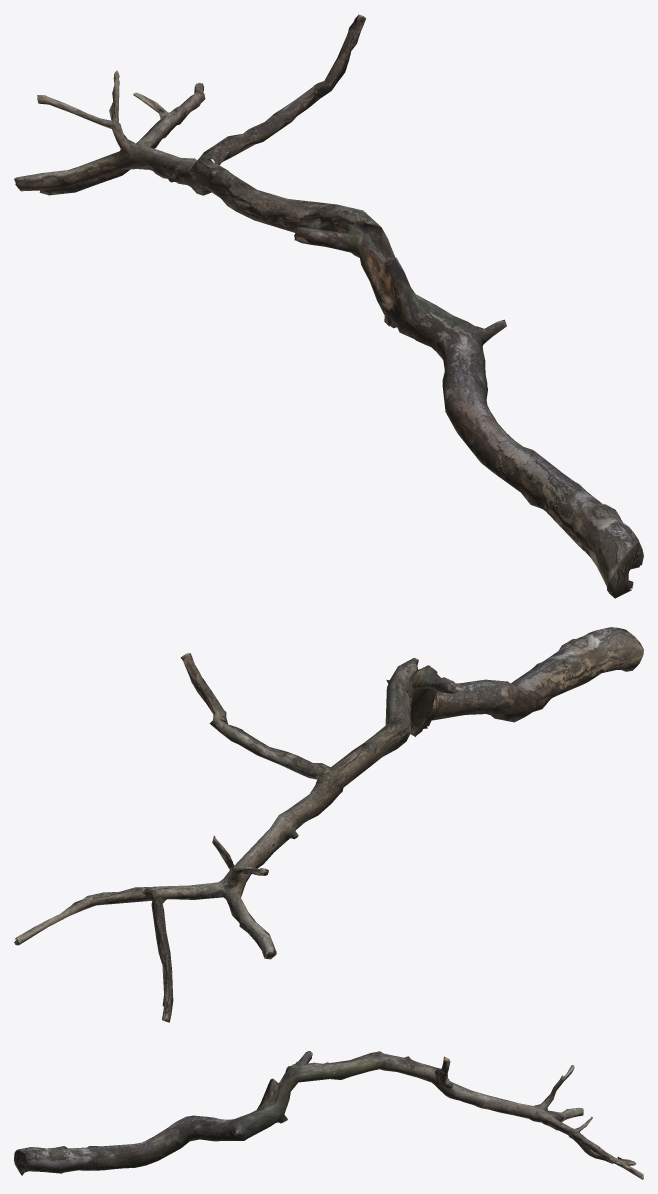
The model's file is dry_branches_medium_01_c.glb.
3 views of the same model, one above another, from view 1: azimuth 30°, elevation 25°; view 2: azimuth 150°, elevation 25°; view 3: azimuth 270°, elevation 25° (orthographic). The views are drawn at different scales.
Parts seen in each view (by area): view 1: dry_branches_medium_01_a; view 2: dry_branches_medium_01_a; view 3: dry_branches_medium_01_a.
Boxes of the visible parts, x1,y1,x2,y2 form: dry_branches_medium_01_a: (14,14,643,598); dry_branches_medium_01_a: (14,627,643,1022); dry_branches_medium_01_a: (14,1051,643,1179).
Bounding box in the file's own units: 0.324 × 0.3403 × 1.3.
1 material, 1 textured.
